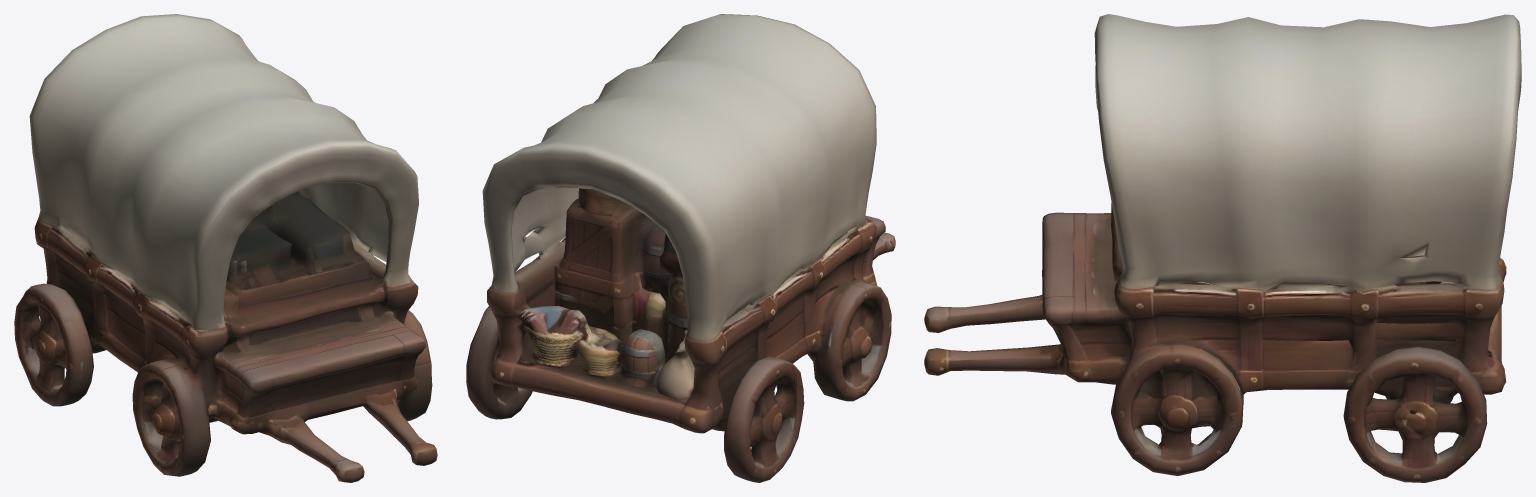
The model's file is wagon.glb.
The picture shows the model from 3 angles, left to right: view 1: azimuth 30°, elevation 25°; view 2: azimuth 150°, elevation 25°; view 3: azimuth 270°, elevation 25°; orthographic projection. The views are drawn at different scales.
Parts seen in each view (by area): view 1: wagon; view 2: wagon; view 3: wagon.
Part boxes in pixels (x1=…): wagon: x1=14, y1=14, x2=437, y2=482; wagon: x1=466, y1=14, x2=895, y2=482; wagon: x1=924, y1=14, x2=1521, y2=482.
Bounding box in the file's own units: 0.6374 × 0.6886 × 0.9962.
Materials: 1 (1 with a texture image).
